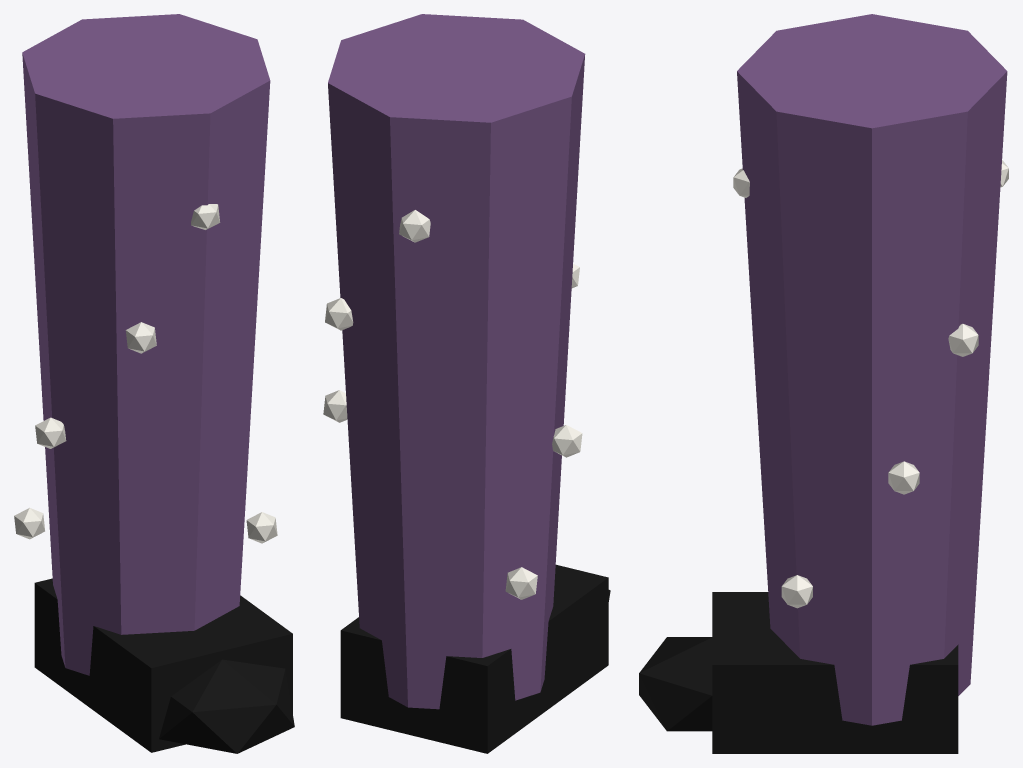
Rendered from insan_k3_bacak.glb.
3 views of the same model, side by side, from view 1: azimuth 30°, elevation 25°; view 2: azimuth 150°, elevation 25°; view 3: azimuth 270°, elevation 25° (orthographic). The views are drawn at different scales.
Visible parts, largest first — view 1: Cone; view 2: Cone; view 3: Cone.
Part boxes in pixels (<box>): Cone: <box>14,14,294,753</box>; Cone: <box>323,14,610,753</box>; Cone: <box>639,14,1008,753</box>.
Bounding box in the file's own units: 0.0446 × 0.1184 × 0.0602.
